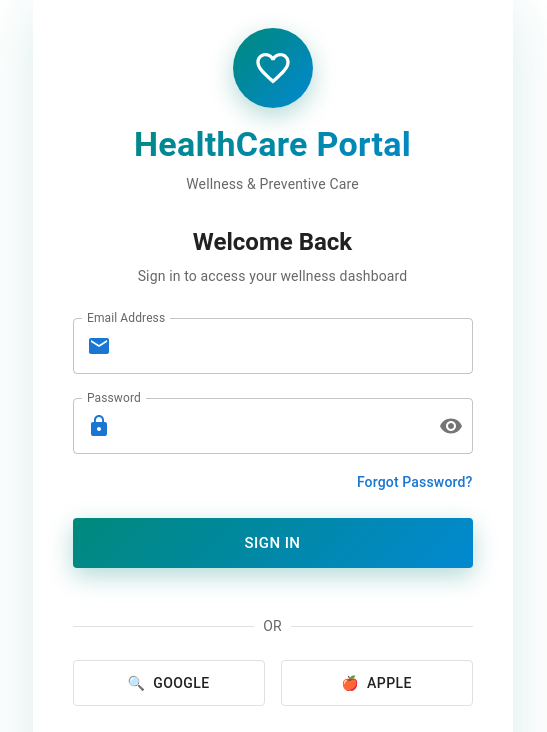
Test: LoginScreen Component › Password Input Validation › shows error for password less than 8 characters
In the password field labelled "Password": (270, 426) [118,398,422,454], type "short"
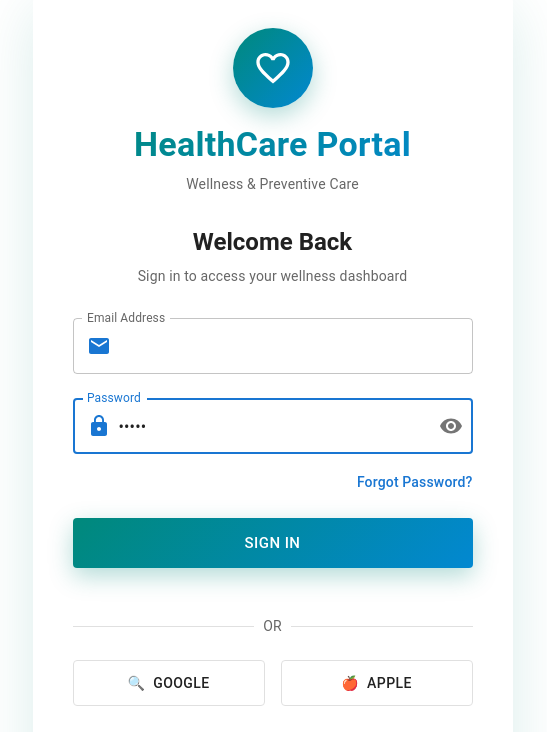
Leave the password field labelled "Password", box [118,398,422,454]
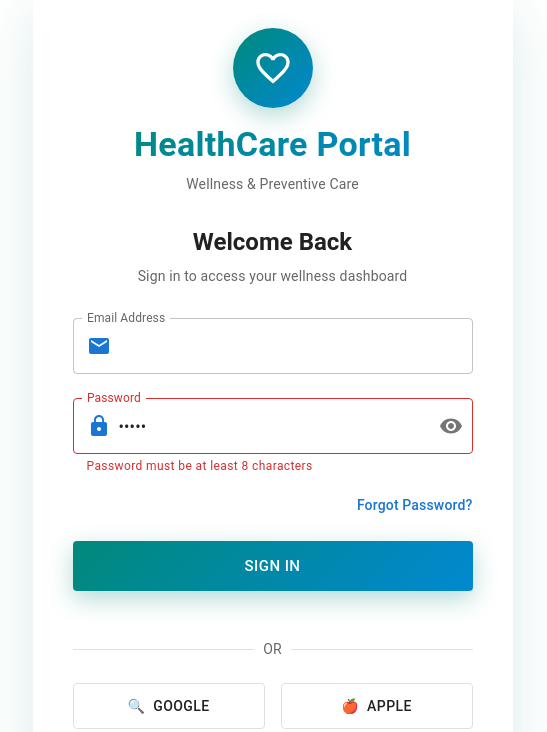
Expected: the text "Password must be at least 8 characters" is shown, [86,459,313,473]
